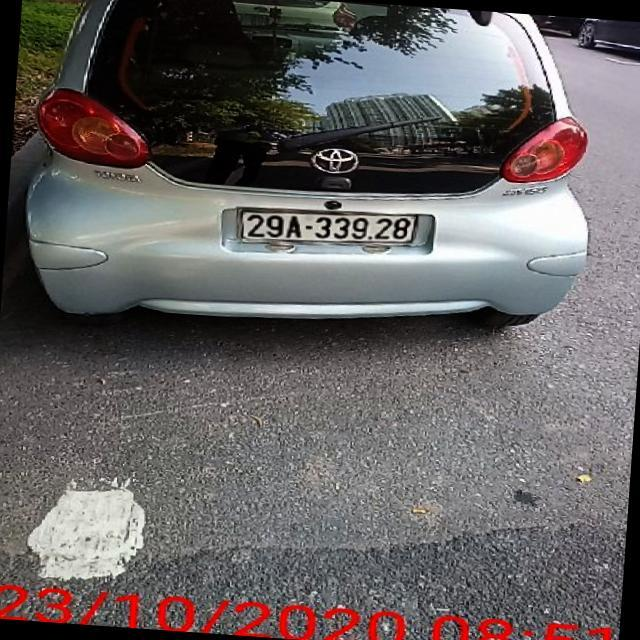car: (25, 0, 596, 331)
plate: (235, 202, 420, 250)
